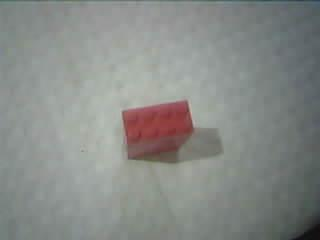lego: (119, 98, 194, 158)
